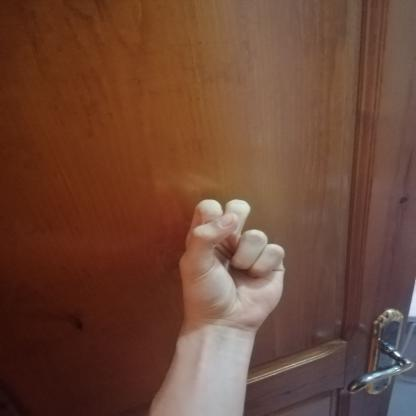QAAF: (162, 190, 301, 340)
